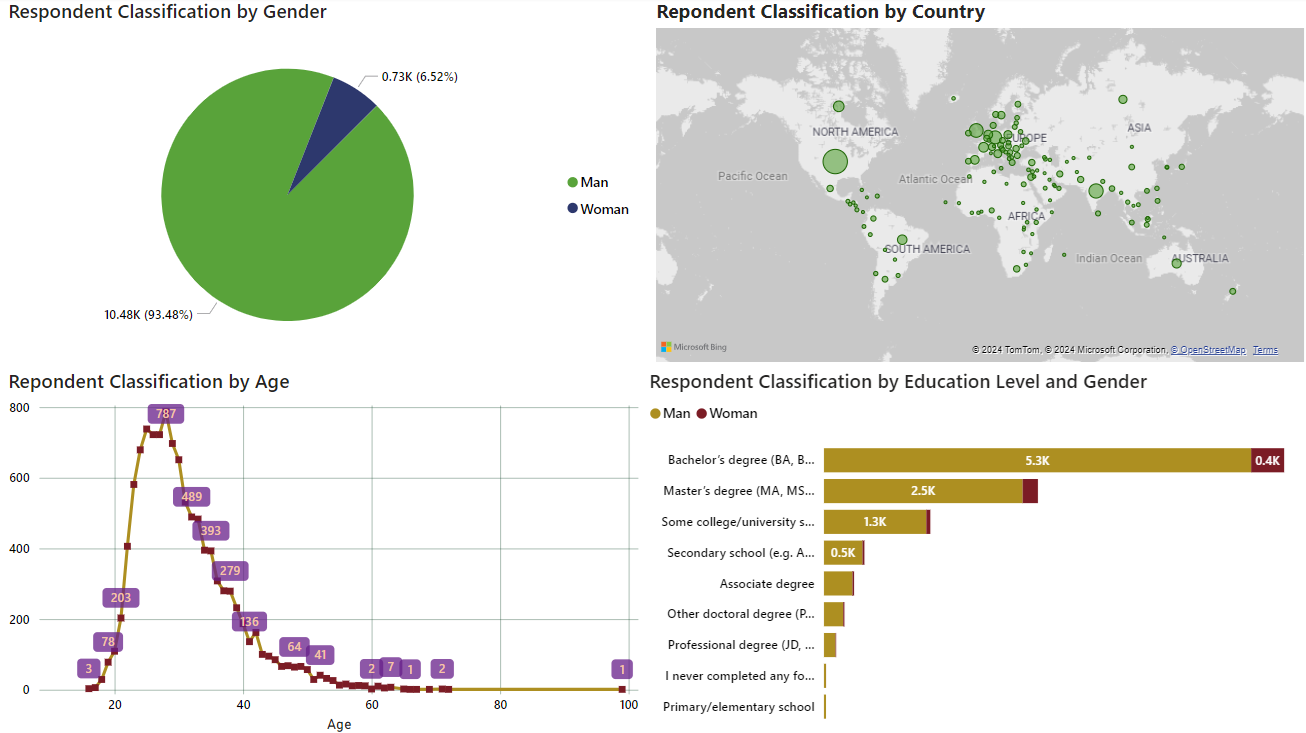

The page's visual inventory and layout, read from the dashboard file:
{"tool":"powerbi","page":{"name":"Demographics","canvas":[1280,720],"ordinal":2},"visuals":[{"type":"pieChart","title":"Respondent Classification by Gender","fields":{"Category":["m5_survey_data_demographics.Gender"],"Y":["CountNonNull(m5_survey_data_demographics.Respondent)"]},"box":[9.7,0,623.5,359.9],"z":0},{"type":"map","title":"Repondent Classification by Country","fields":{"Category":["m5_survey_data_demographics.Country"],"Size":["CountNonNull(m5_survey_data_demographics.Respondent)"]},"box":[640,0,640,359.9],"z":1000},{"type":"lineChart","title":"Repondent Classification by Age","fields":{"Category":["m5_survey_data_demographics.Age"],"Y":["CountNonNull(m5_survey_data_demographics.Respondent)"]},"box":[9.7,359.9,623.5,359.9],"z":2000},{"type":"barChart","title":"Respondent Classification by Education Level and Gender","fields":{"Category":["m5_survey_data_demographics.EdLevel"],"Y":["CountNonNull(m5_survey_data_demographics.Respondent)"],"Series":["m5_survey_data_demographics.Gender"]},"box":[633.2,359.9,646.8,359.9],"z":3000}]}

Visuals, with their boxes in screenshot pixels (x1, y1, x2, y2), scaled from the page's 1280x720 canvas onto the 1306x733 screenshot:
"Respondent Classification by Gender" pieChart: left=10, top=0, right=646, bottom=366
"Repondent Classification by Country" map: left=653, top=0, right=1305, bottom=366
"Repondent Classification by Age" lineChart: left=10, top=366, right=646, bottom=732
"Respondent Classification by Education Level and Gender" barChart: left=646, top=366, right=1305, bottom=732
